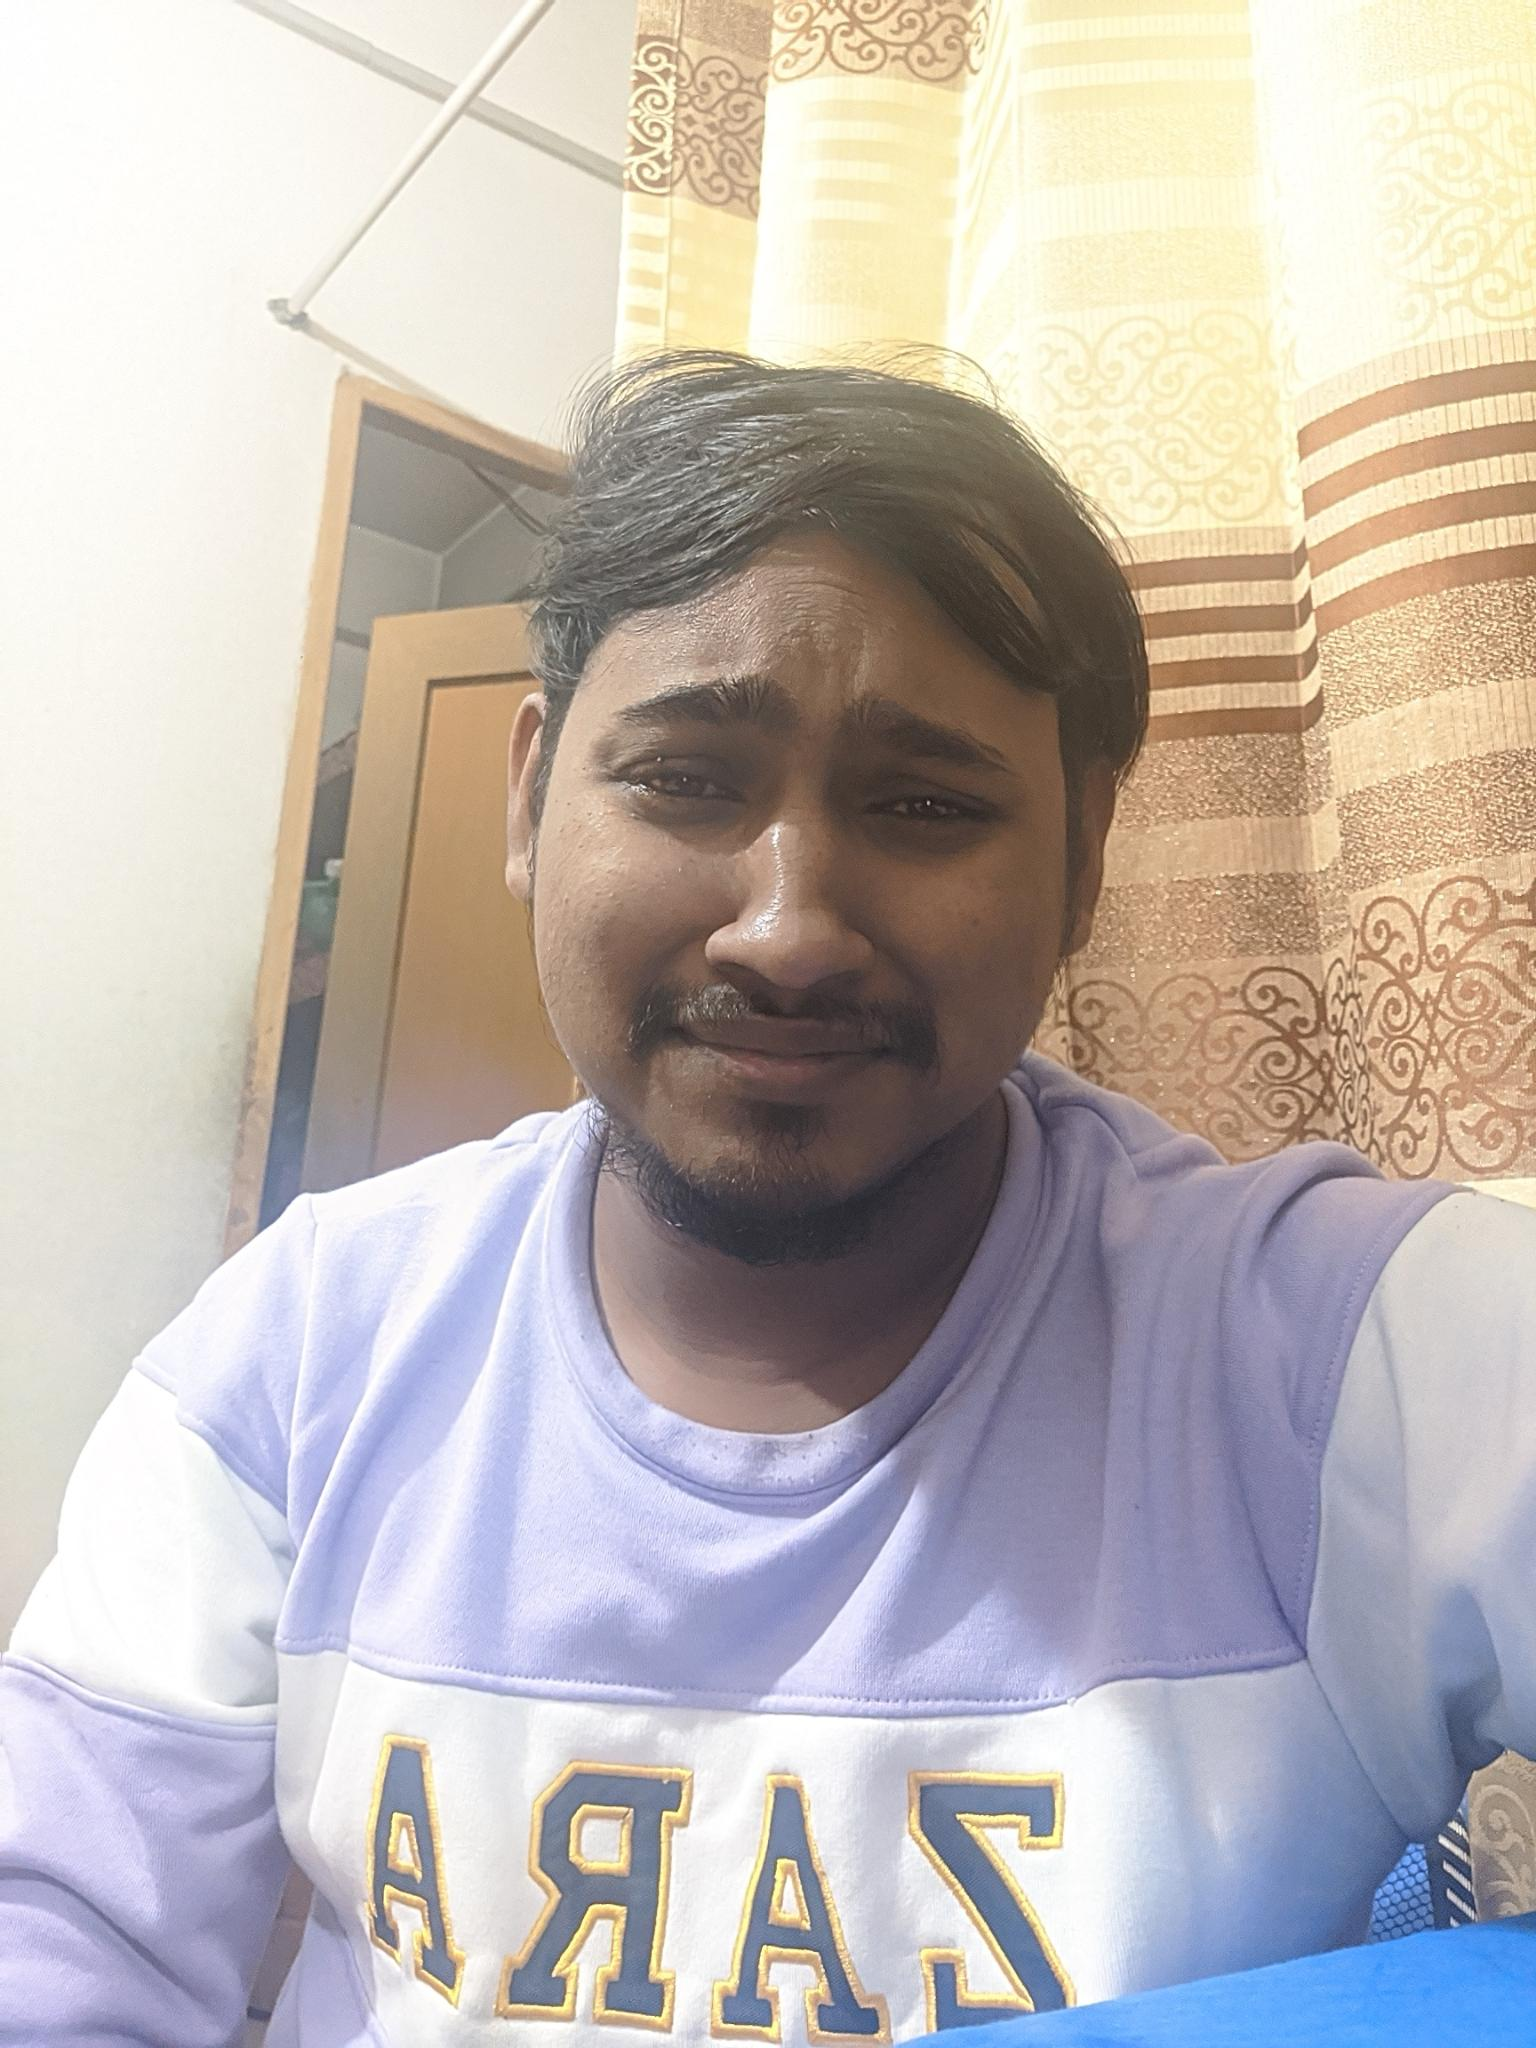Sad: (521, 571, 1044, 1234)
